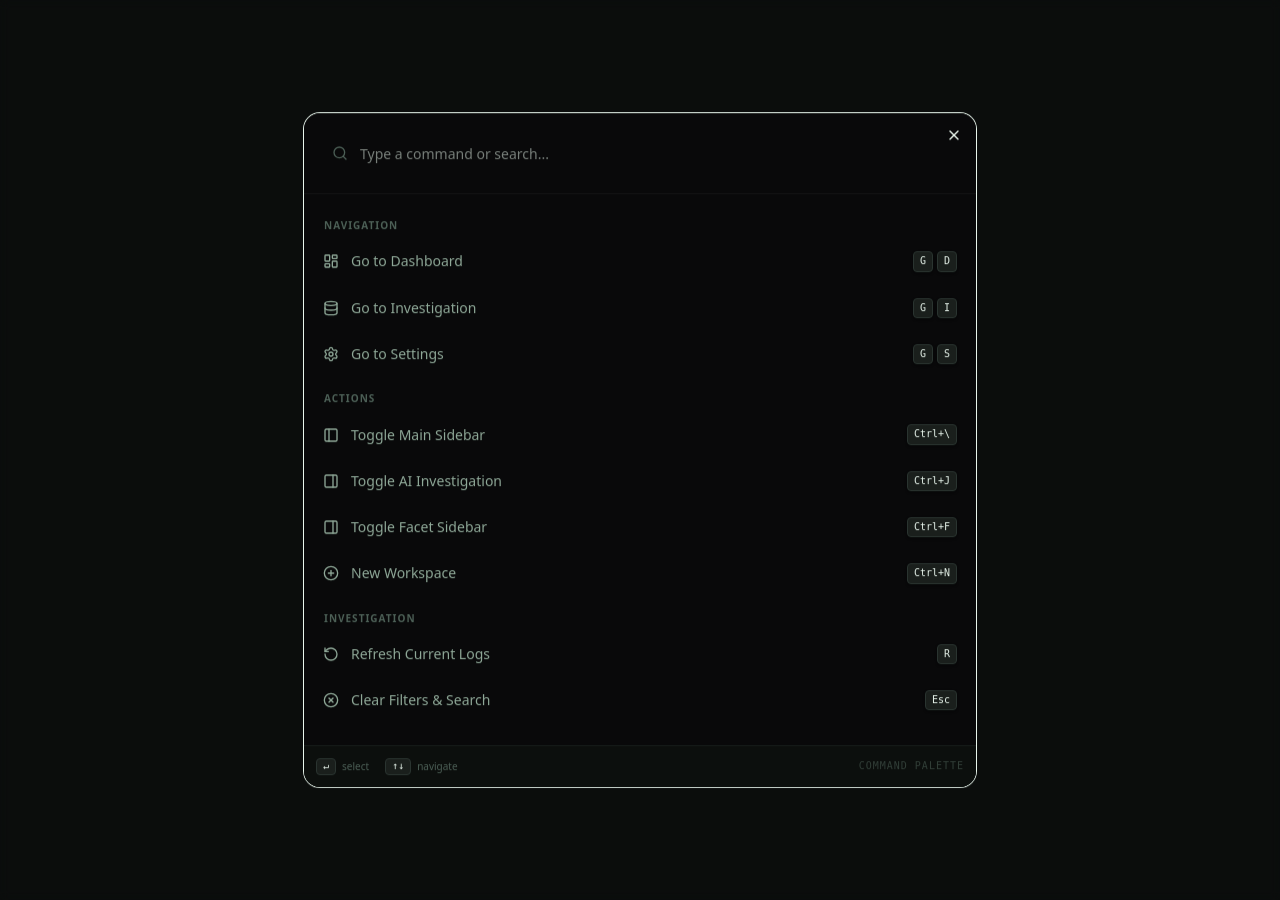
Test: CommandPalette › should filter commands based on search input
This screenshot has width=1280, height=900.
Type "Dashboard" into the field with placeholder "Type a command or search..." at {"x": 640, "y": 153}, box [320,129,960,177]
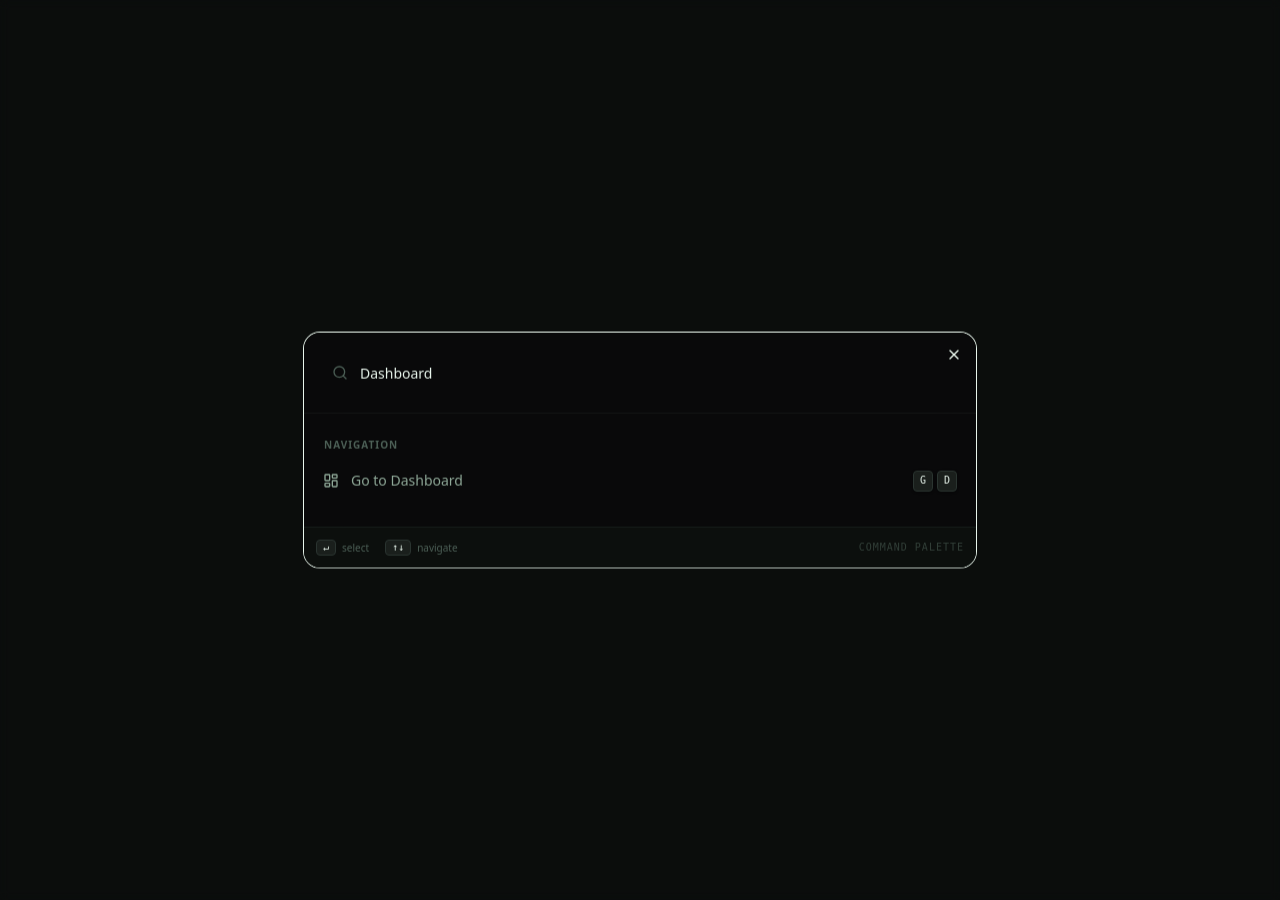
Expected: the text "Go to Dashboard" is shown, [351,471,463,491]
Now the button "Toggle Main Sidebar" is gone
